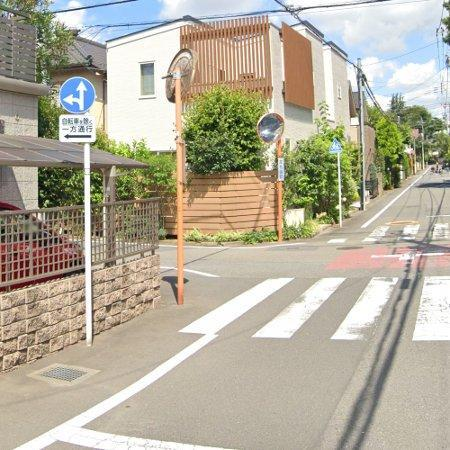crosswalks: (177, 274, 450, 341)
